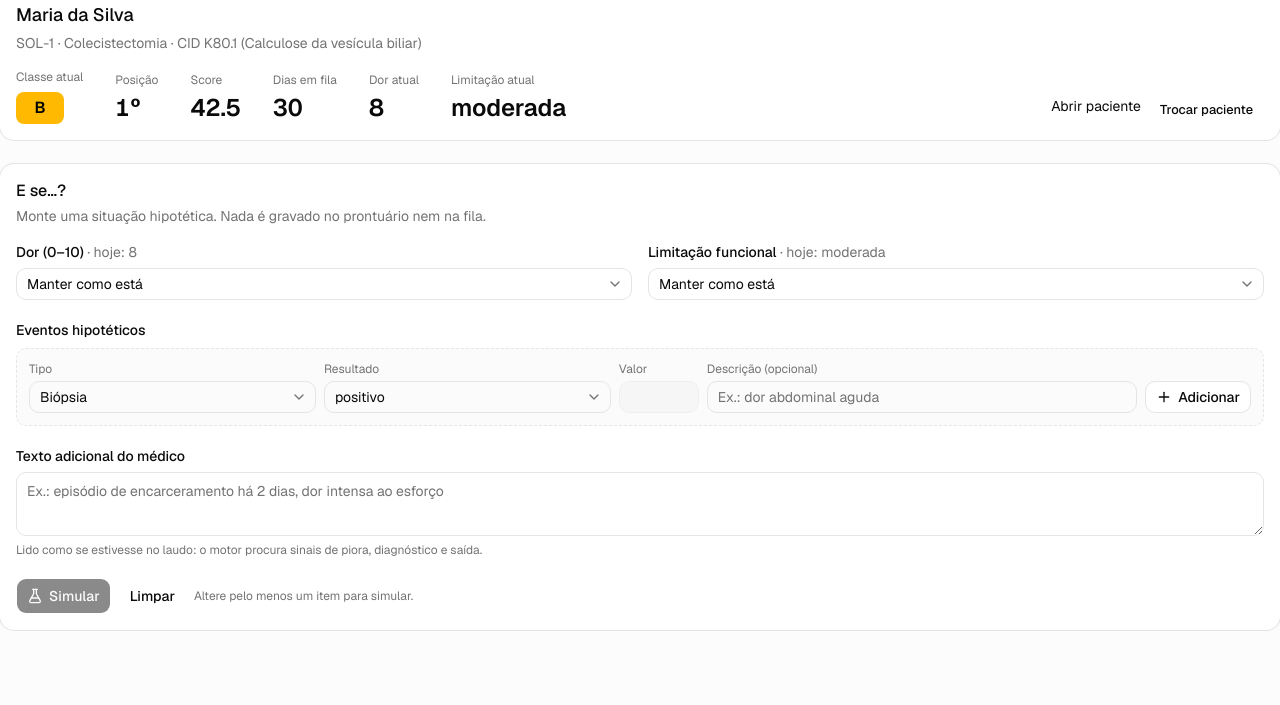
Scenario: SimuladorPaciente com paciente vindo da URL › erro da simulação aparece na tela e não grava nada
Expected: the text "Maria da Silva" is shown, [16, 3, 134, 26]
Type "texto" into the text box with placeholder "episódio de encarceramento" at x=640, y=504, box [16, 472, 1264, 536]
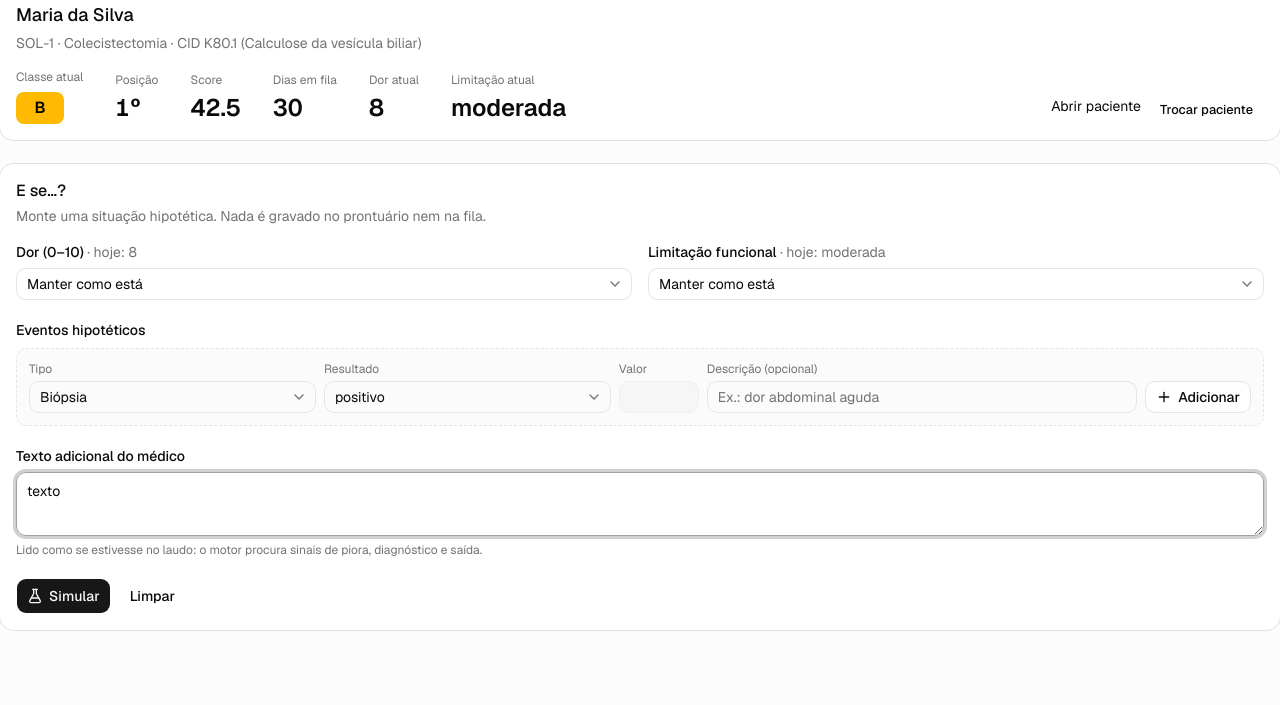
Click the button "Simular" at x=63, y=596, box [16, 578, 111, 614]
(page scrolled)
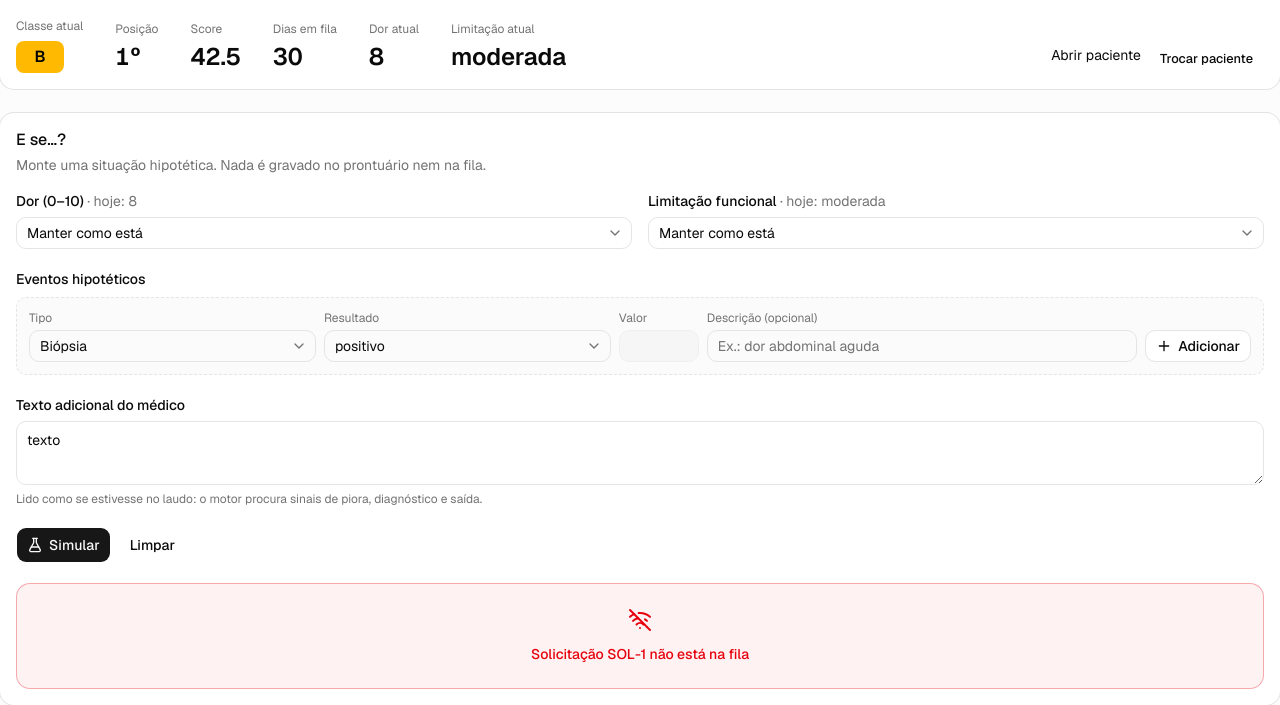
Now the text "Solicitação SOL-1 não está na fila" is shown, box [531, 644, 749, 664]
